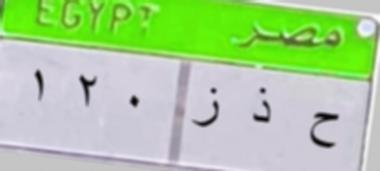0: (125, 93, 145, 118)
1: (26, 66, 50, 102)
2: (76, 71, 101, 110)
7aa: (307, 110, 341, 156)
zaal: (246, 83, 274, 127)
zay: (189, 84, 222, 133)
